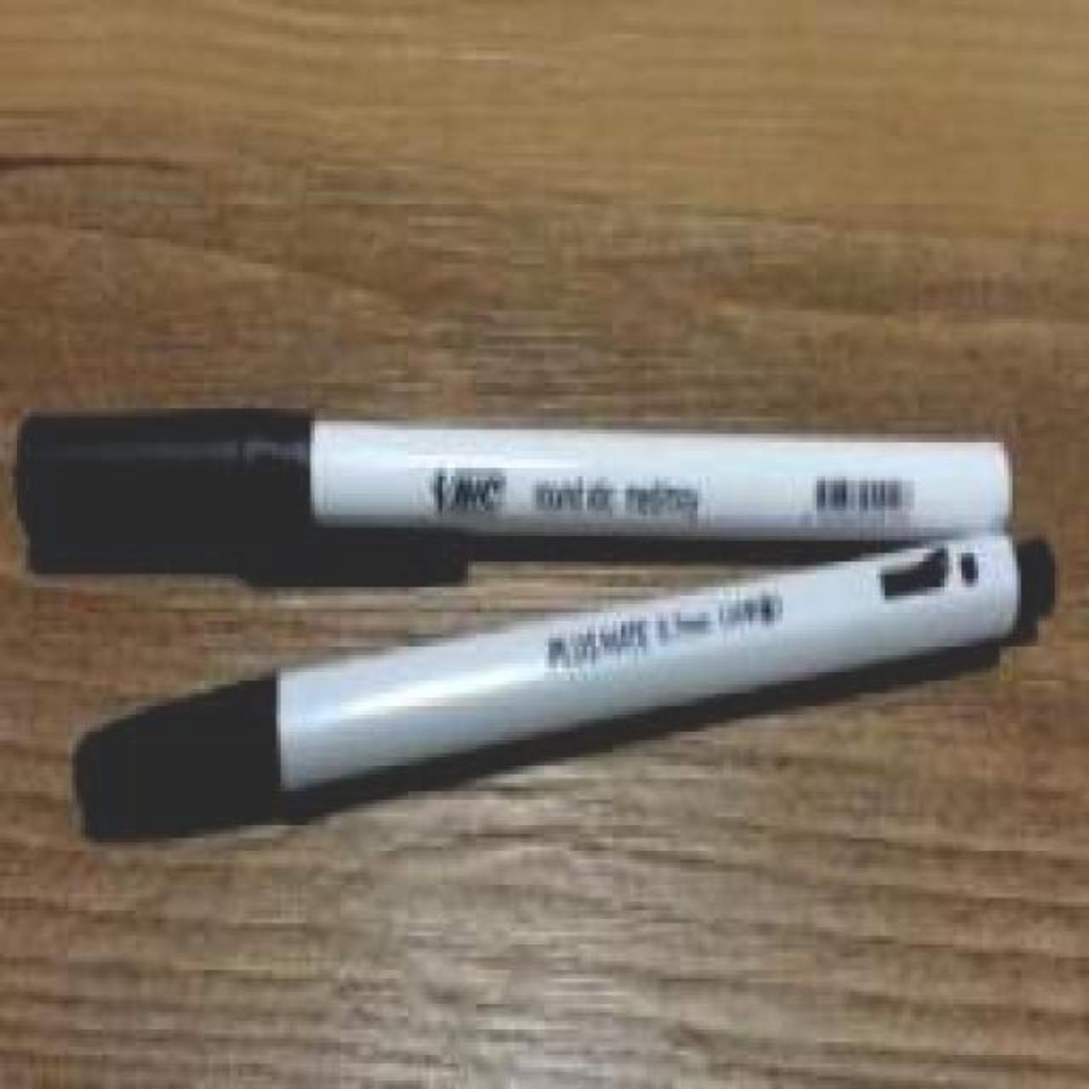pen: (68, 527, 1063, 847)
